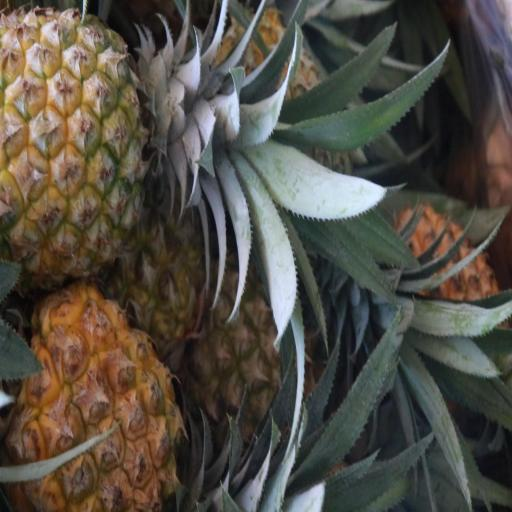Pineapple - v8 v1: (0, 13, 163, 275), (6, 286, 181, 512), (185, 268, 311, 461)
